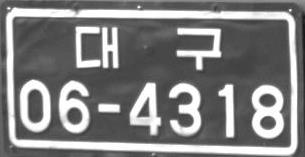0: (18, 78, 51, 133)
1: (213, 83, 245, 138)
3: (166, 81, 201, 135)
4: (129, 81, 162, 135)
6: (58, 79, 90, 133)
8: (250, 83, 284, 138)
대구_D: (75, 24, 221, 71)
